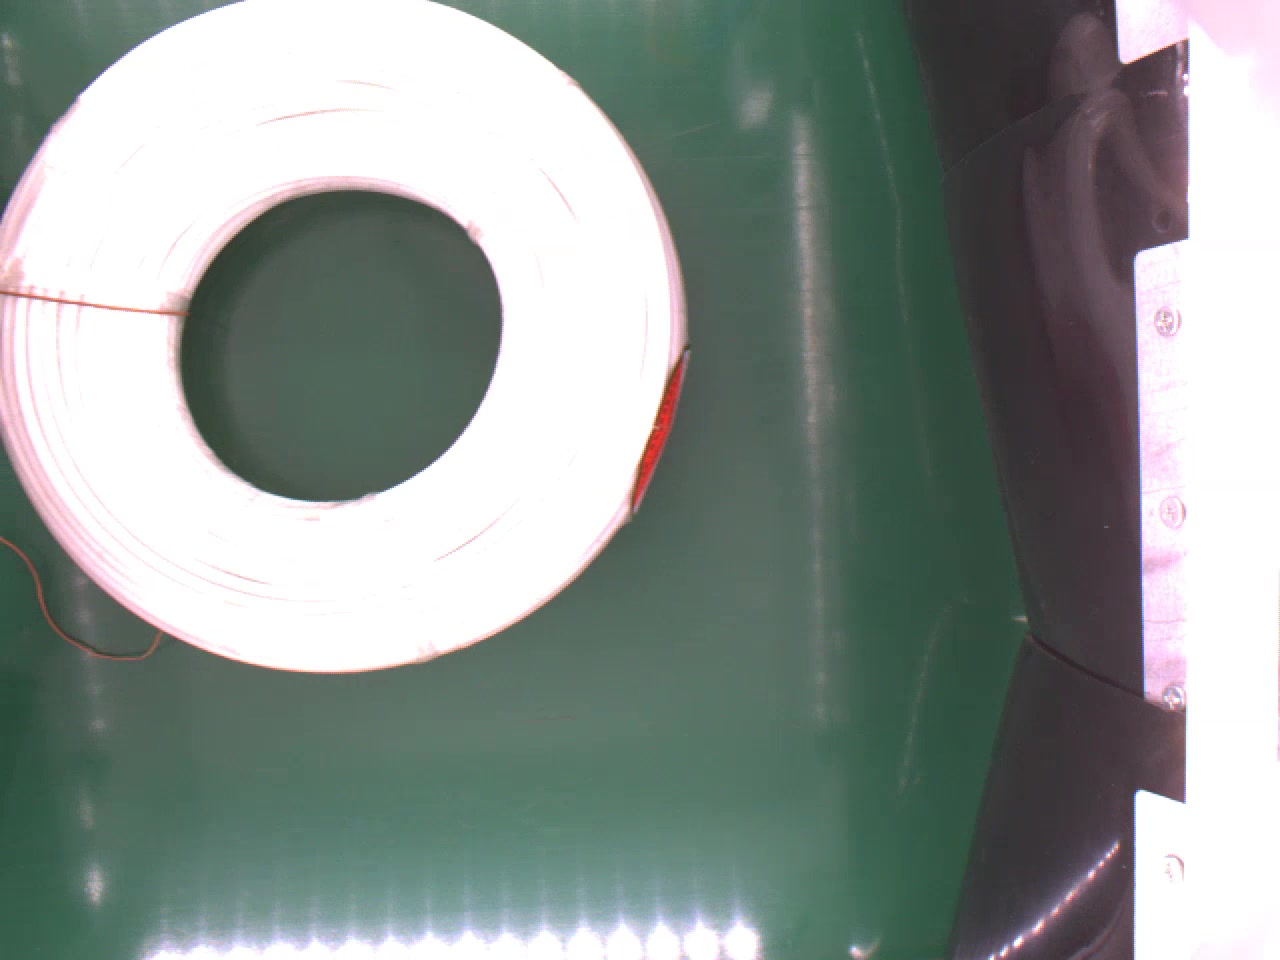white: (0, 0, 705, 669)
